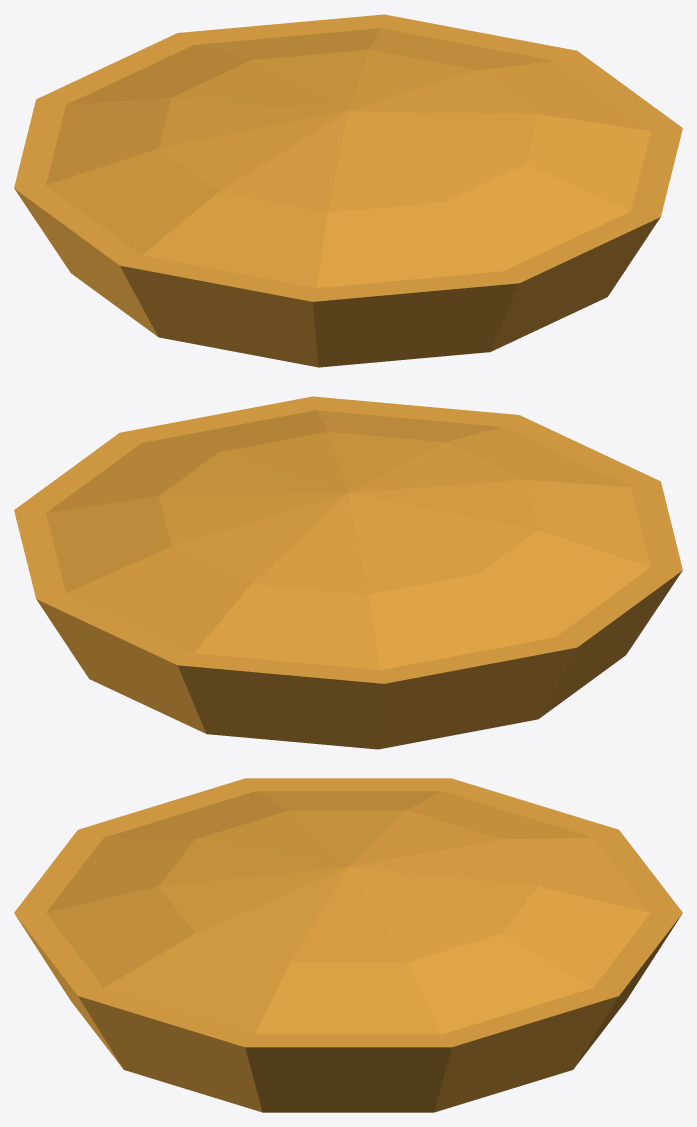
Rendered from tart.001.fbx.
The picture shows the model from 3 angles, top to bottom: view 1: azimuth 30°, elevation 25°; view 2: azimuth 150°, elevation 25°; view 3: azimuth 270°, elevation 25°; orthographic projection. The views are drawn at different scales.
Parts seen in each view (by area): view 1: tart.001_LOD0; view 2: tart.001_LOD0; view 3: tart.001_LOD0.
Part boxes in pixels (x1=…): tart.001_LOD0: x1=14, y1=14, x2=682, y2=367; tart.001_LOD0: x1=14, y1=396, x2=682, y2=749; tart.001_LOD0: x1=14, y1=778, x2=682, y2=1112.
Size of what is drawn, in the model's own units: 0.4294 by 0.0999 by 0.4515.
